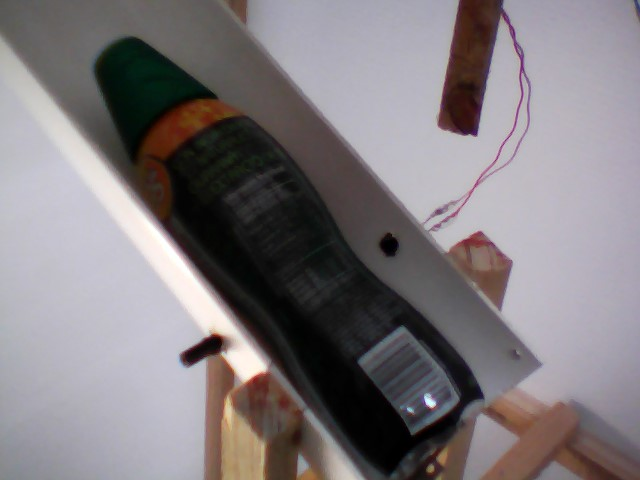plastico: (87, 26, 491, 479)
